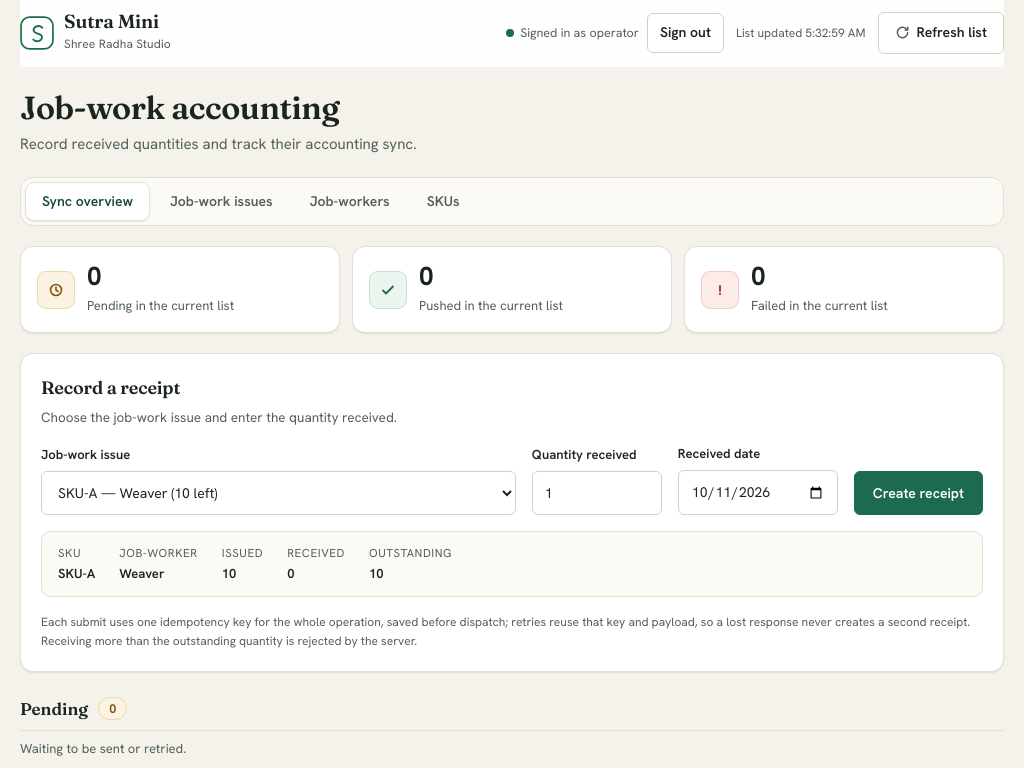
it: SyncPage receipt history + session feedback › returns the UI to sign-in with an expiry message on a genuine current-session 401
The width and height of the screenshot is (1024, 768).
Expected: the button "Create receipt" is enabled, [854, 471, 983, 515]
What coordinates should you click on to do the following:
click the button "Refresh list"
I would click on:
 (941, 33)
Its box is [878, 12, 1004, 54].
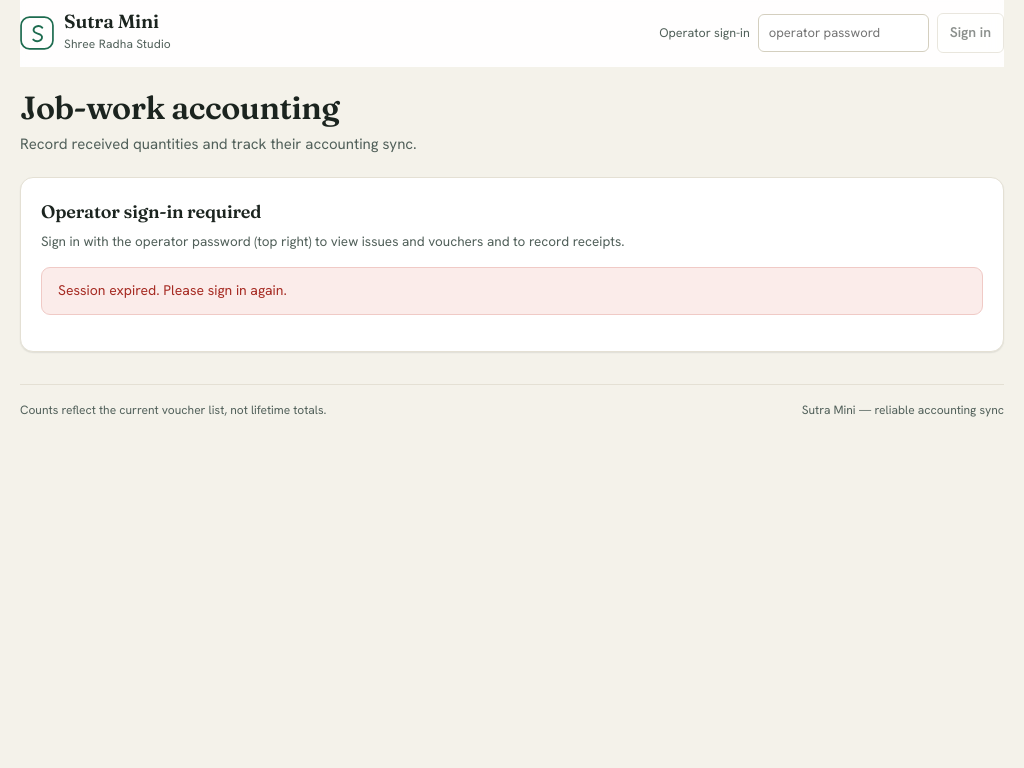
Expected: the heading "Operator sign-in required" is shown, [41, 200, 261, 223]
Expected: the text "Session expired. Please sign in again." is shown, [41, 268, 983, 315]
